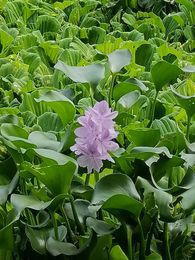water_hyacinth: (0, 93, 195, 260)
